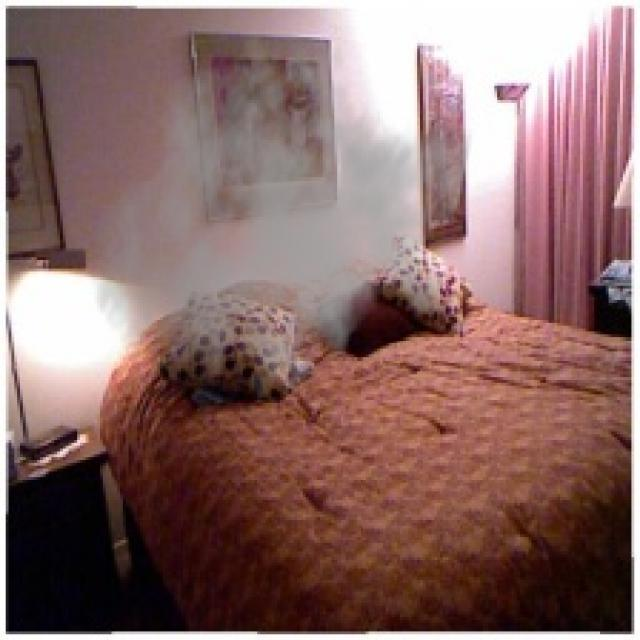Smoke: (88, 26, 474, 420)
